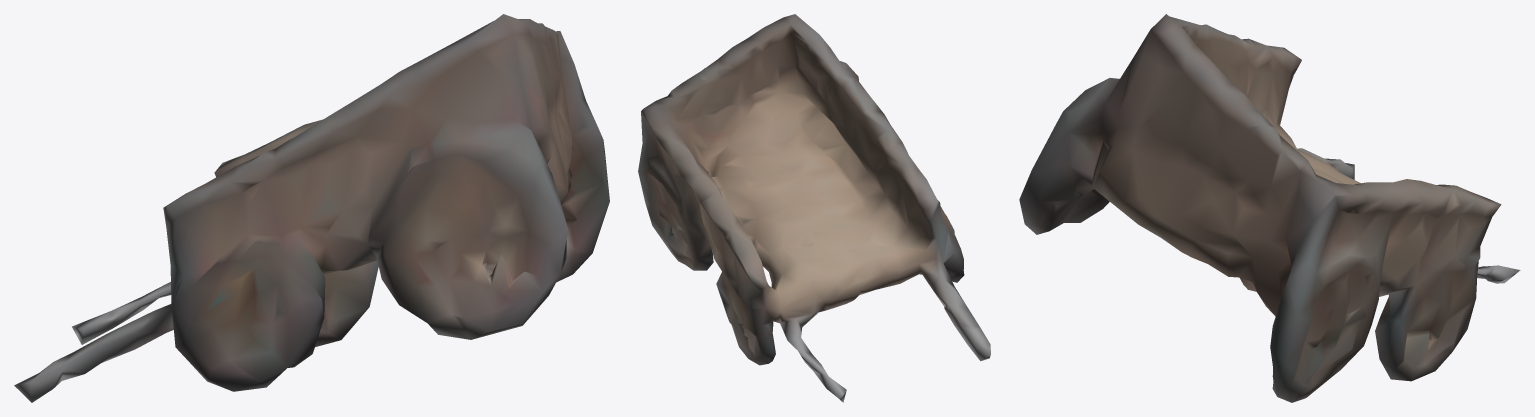
File: carroca.glb
3 renders of one model, left to right at view 1: azimuth 30°, elevation 25°; view 2: azimuth 150°, elevation 25°; view 3: azimuth 270°, elevation 25°, orthographic. The views are drawn at different scales.
Size of the model in its own units: 0.9545 by 0.6672 by 0.7616.
